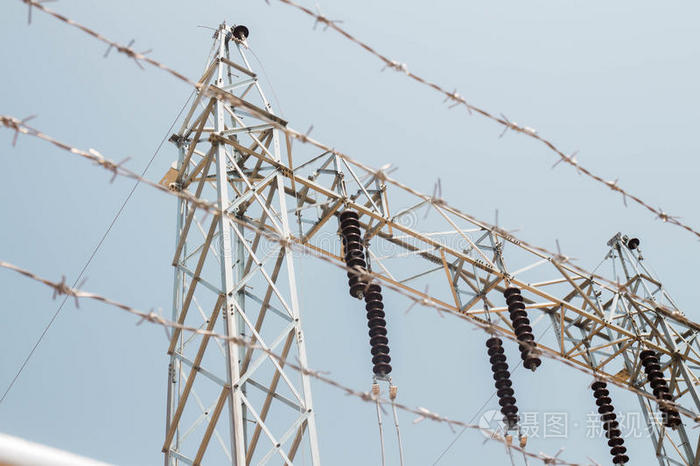insulator: (639, 349, 684, 427), (590, 378, 629, 462), (506, 284, 541, 370), (487, 336, 517, 422), (365, 283, 393, 375), (338, 210, 365, 298)
